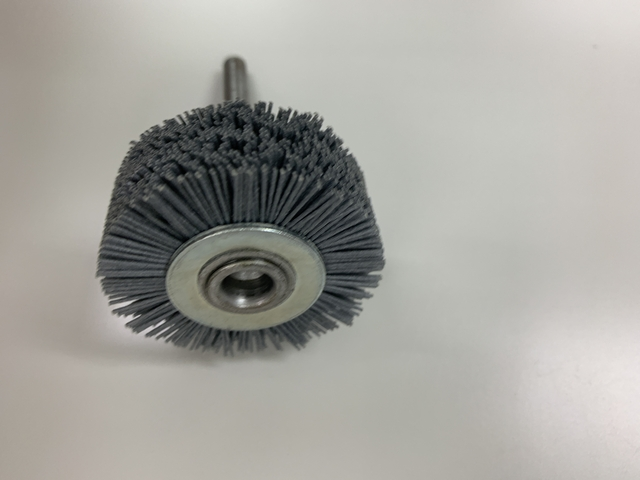Wheel Brush: (95, 50, 389, 362), (77, 38, 357, 353)
